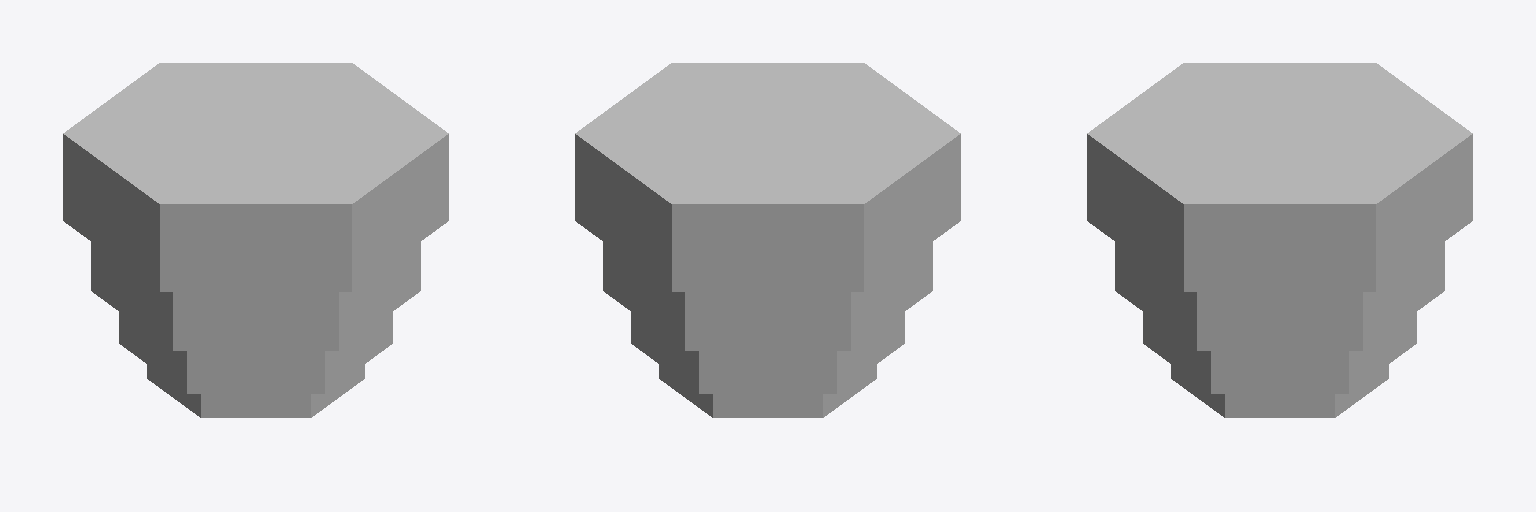
Rendered from chandelier.obj.
The picture shows the model from 3 angles: view 1: azimuth 30°, elevation 25°; view 2: azimuth 150°, elevation 25°; view 3: azimuth 270°, elevation 25°; orthographic projection.
Visible parts, largest first — view 1: chandelier; view 2: chandelier; view 3: chandelier.
Part boxes in pixels (x1,y1,x2,y2): chandelier: (63,63,448,417); chandelier: (575,63,960,417); chandelier: (1087,63,1472,417).
Bounding box in the file's own units: 3.46 × 2.8 × 4.